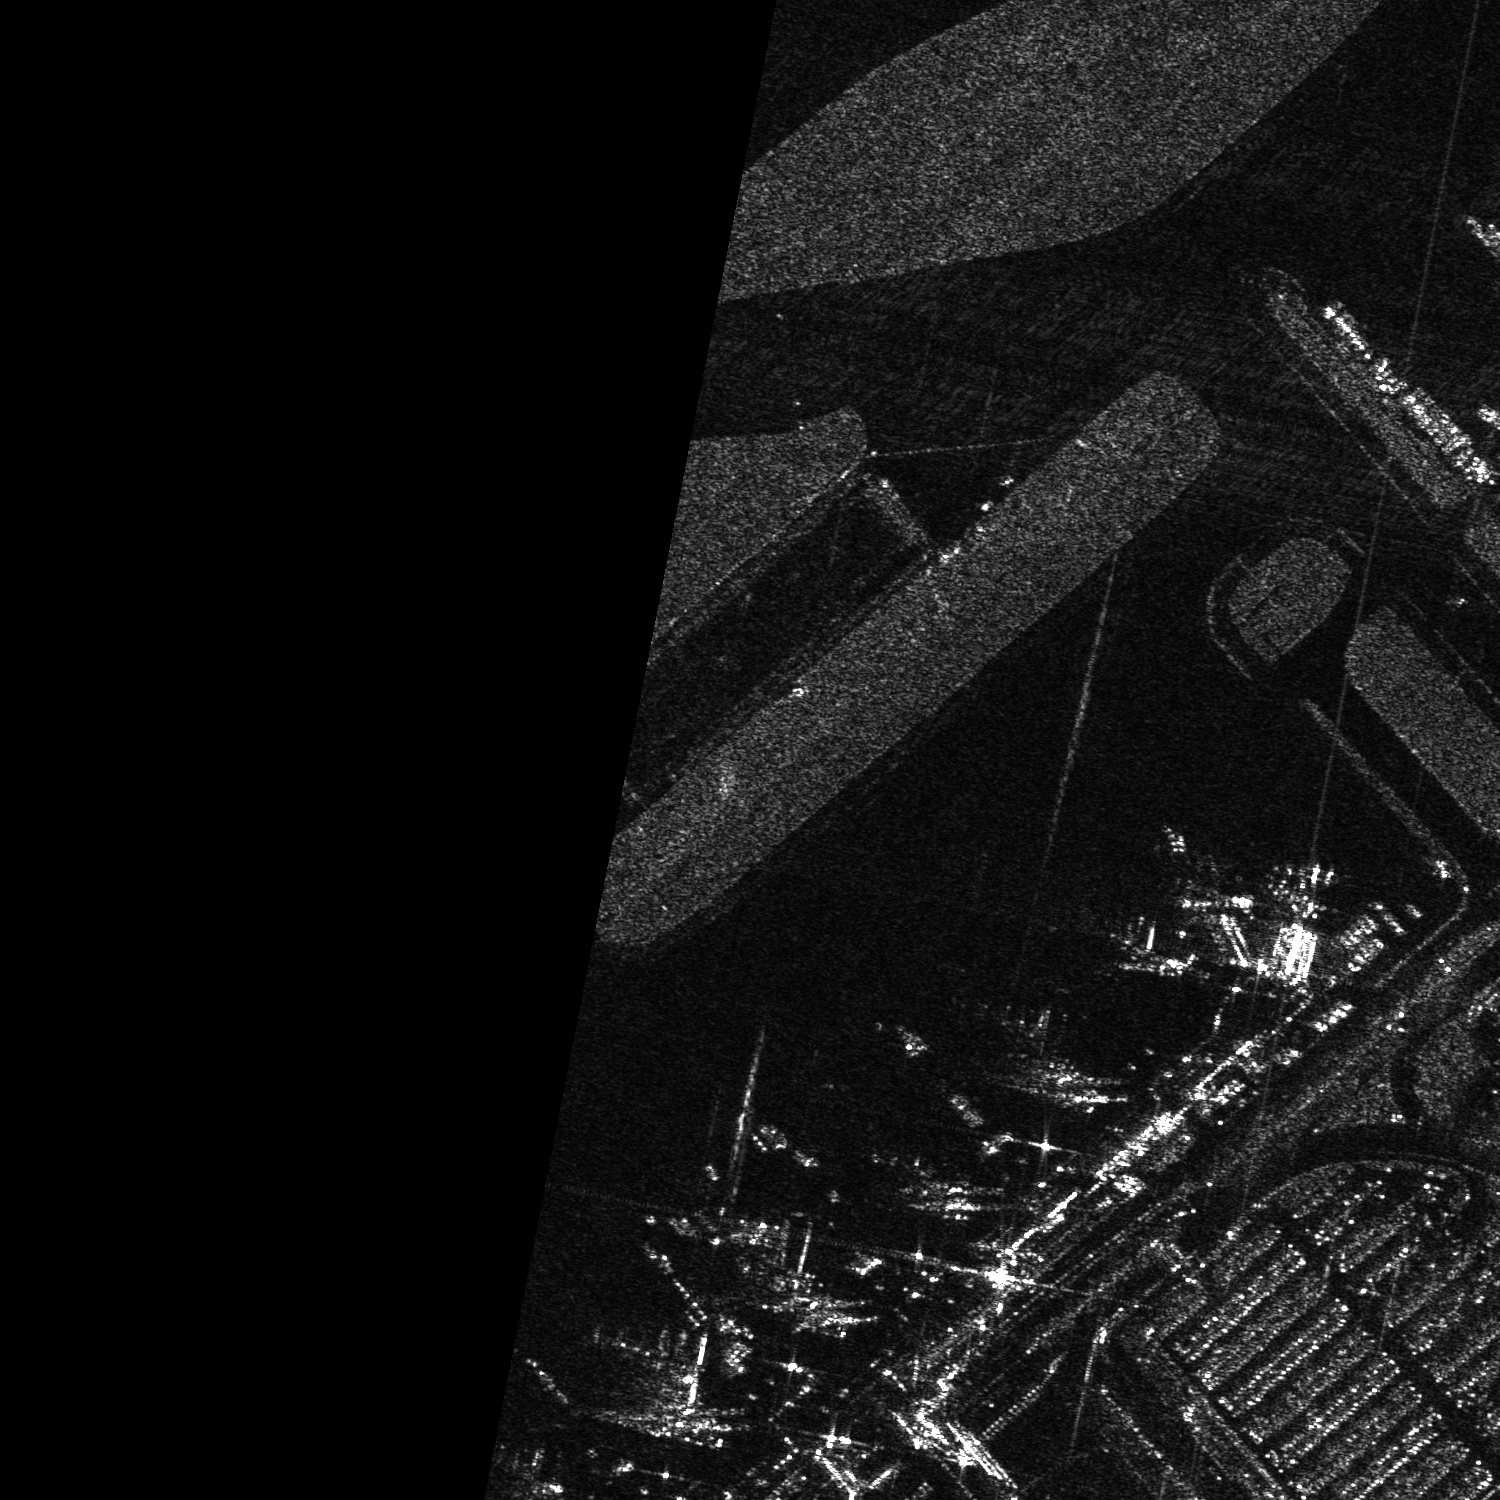Boeing737: (956, 999, 1065, 1096), (1174, 846, 1261, 913), (1104, 913, 1190, 979), (499, 1438, 584, 1499)
Boeing787: (592, 1316, 709, 1440), (705, 1205, 810, 1293), (1266, 856, 1348, 920)
